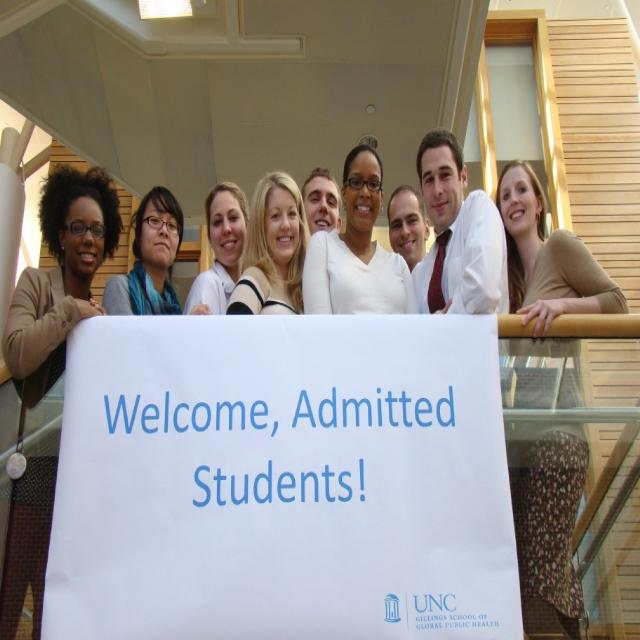body: (495, 157, 630, 639), (0, 162, 125, 380), (300, 141, 420, 315), (408, 126, 512, 317), (102, 183, 213, 318), (225, 169, 312, 315), (182, 179, 252, 316), (385, 182, 431, 272), (299, 164, 343, 238)
